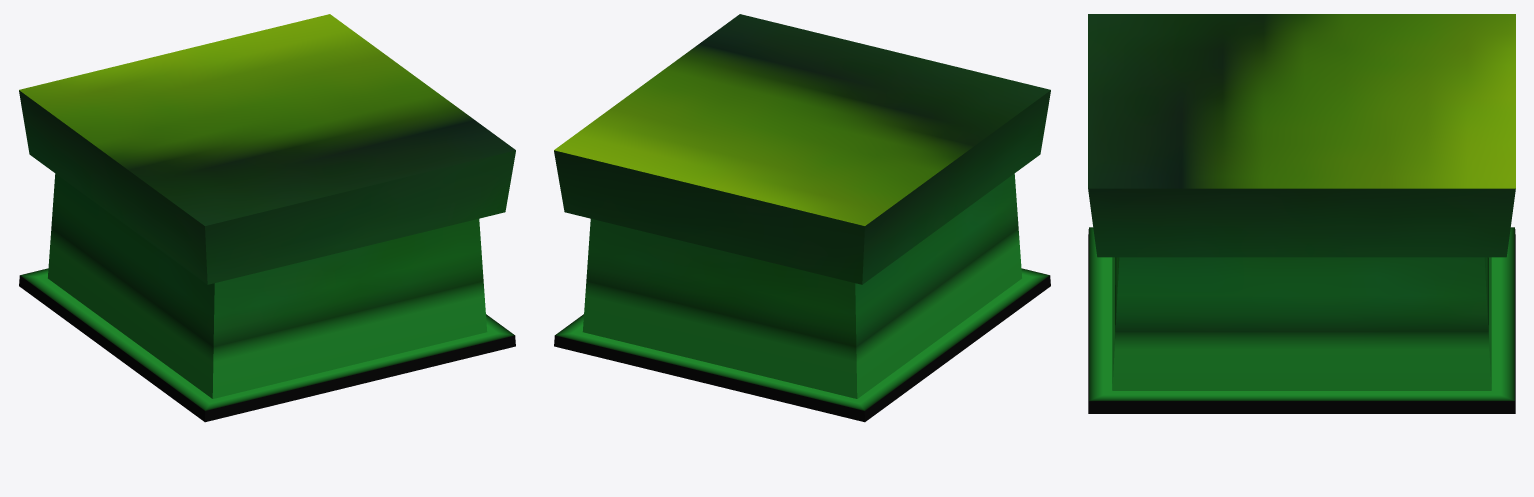
The model's file is sn_shengdi_basepost_003.FBX.
3 views of the same model, side by side, from view 1: azimuth 30°, elevation 25°; view 2: azimuth 150°, elevation 25°; view 3: azimuth 270°, elevation 25° (orthographic). The views are drawn at different scales.
Parts seen in each view (by area): view 1: sn_shengdi_basepost_003; view 2: sn_shengdi_basepost_003; view 3: sn_shengdi_basepost_003.
Part boxes in pixels (<box>): sn_shengdi_basepost_003: <box>19,14,515,422</box>; sn_shengdi_basepost_003: <box>554,14,1050,422</box>; sn_shengdi_basepost_003: <box>1088,14,1515,413</box>.
Size of the model in its own units: 153 by 158 by 117.
